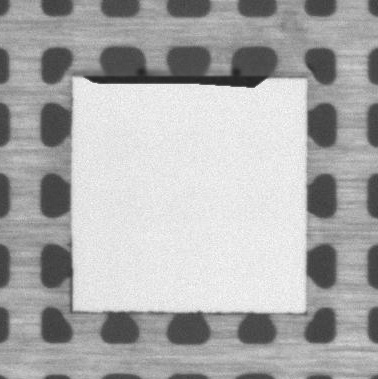DIE_BROKEN: (81, 71, 271, 89)
